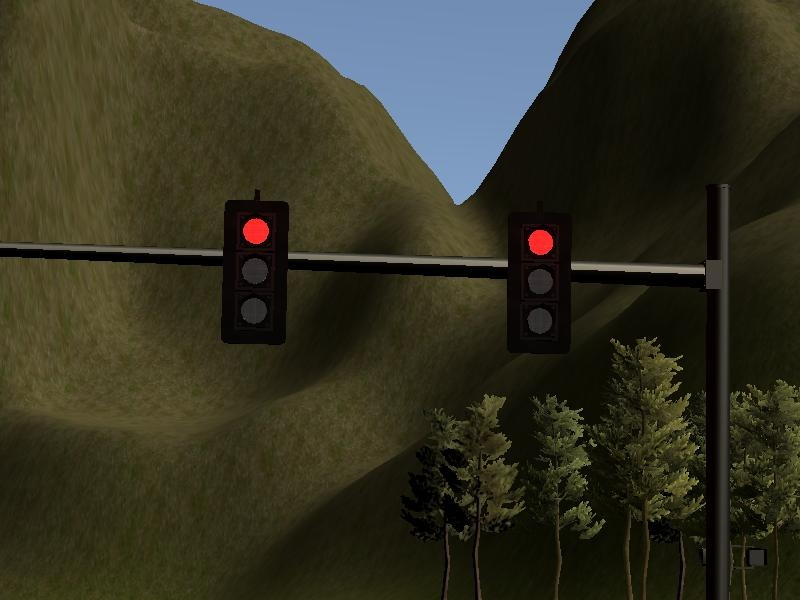red: (220, 203, 286, 343), (509, 216, 567, 352)
